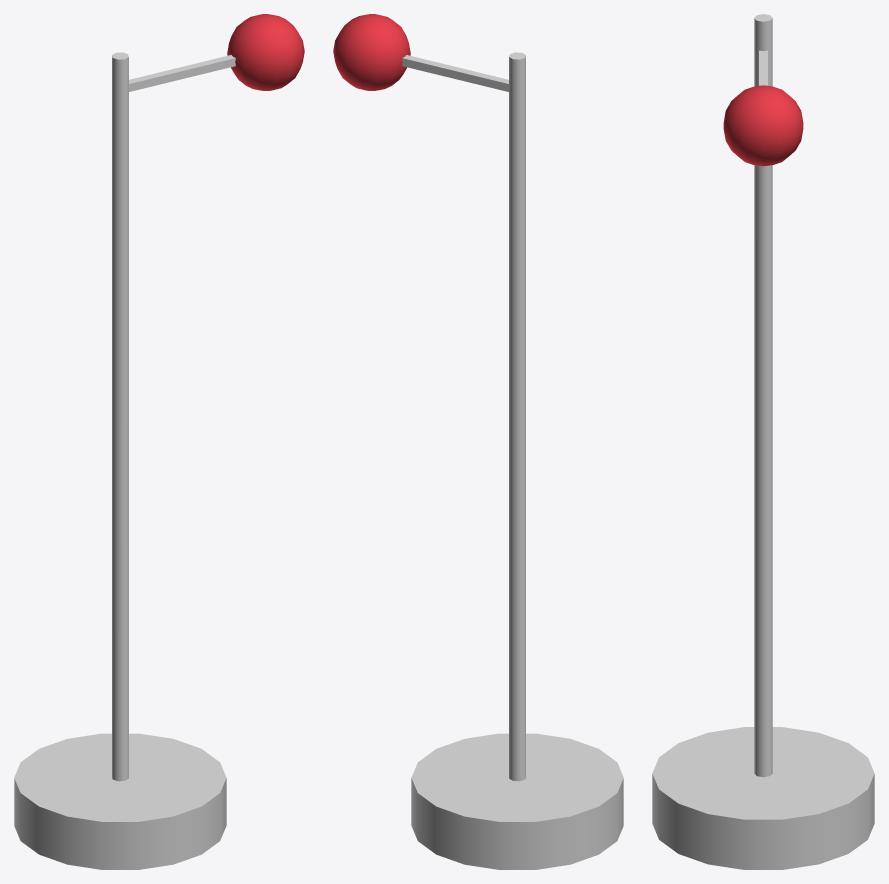
Rendered from target_pole.glb.
3 renders of one model, left to right at view 1: azimuth 30°, elevation 25°; view 2: azimuth 150°, elevation 25°; view 3: azimuth 270°, elevation 25°, orthographic. The views are drawn at different scales.
Parts seen in each view (by area): view 1: Jump target; view 2: Jump target; view 3: Jump target.
Part boxes in pixels (x1,y1,x2,y2): Jump target: (14,14,304,869); Jump target: (333,14,623,869); Jump target: (652,14,874,869).
Bounding box in the file's own units: 1.76 × 4.82 × 1.2.
